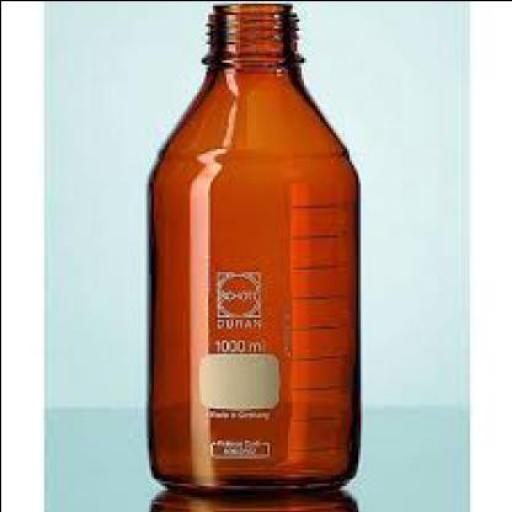glass: (139, 2, 356, 492)
